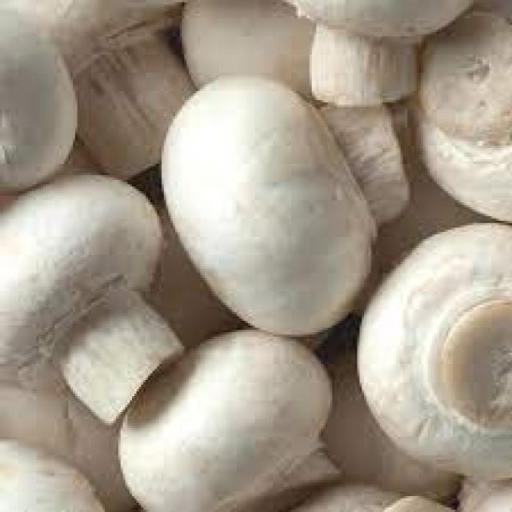Button Mushroom: (155, 75, 422, 331), (0, 172, 186, 420), (119, 332, 334, 512), (356, 226, 512, 463), (26, 4, 215, 178), (406, 5, 512, 206), (297, 0, 480, 111), (0, 4, 86, 187)
